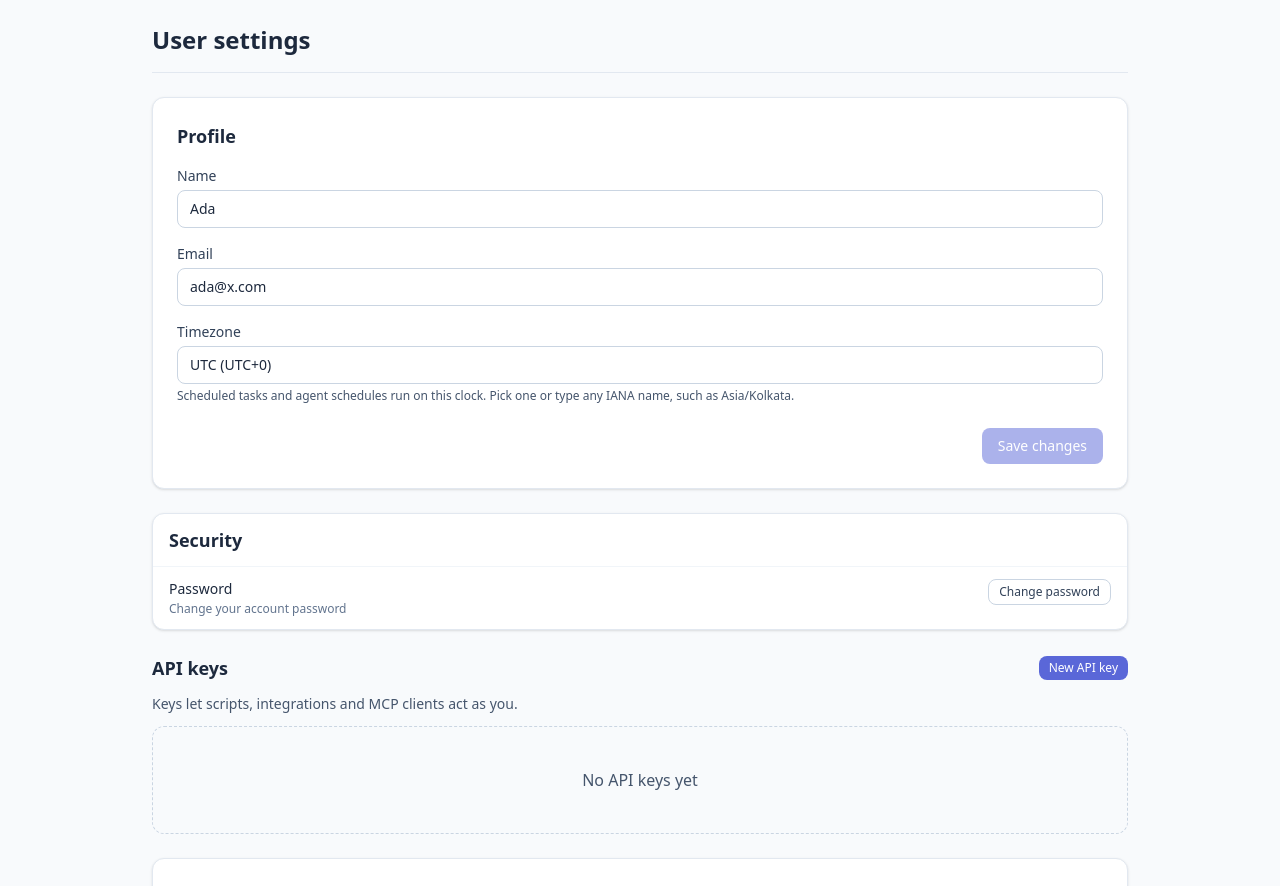
UserSettings save profile › shows an error message when the update fails
Step 1. Replace the text in the field showing "ada@x.com" with "new@x.com" → [640, 287], box left=177, top=268, right=1103, bottom=306
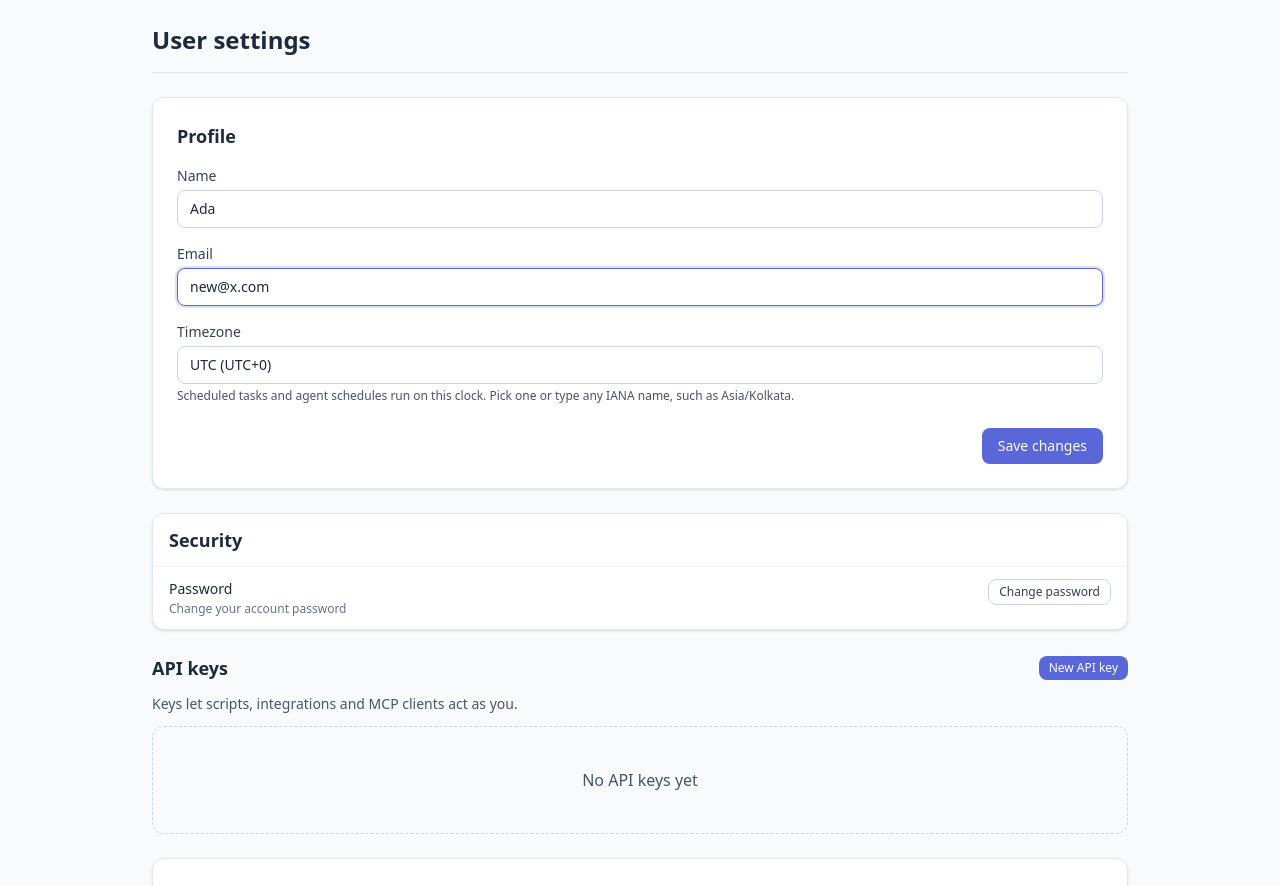
Step 2. Click the button "Save changes" → [1042, 446], box left=982, top=428, right=1103, bottom=464
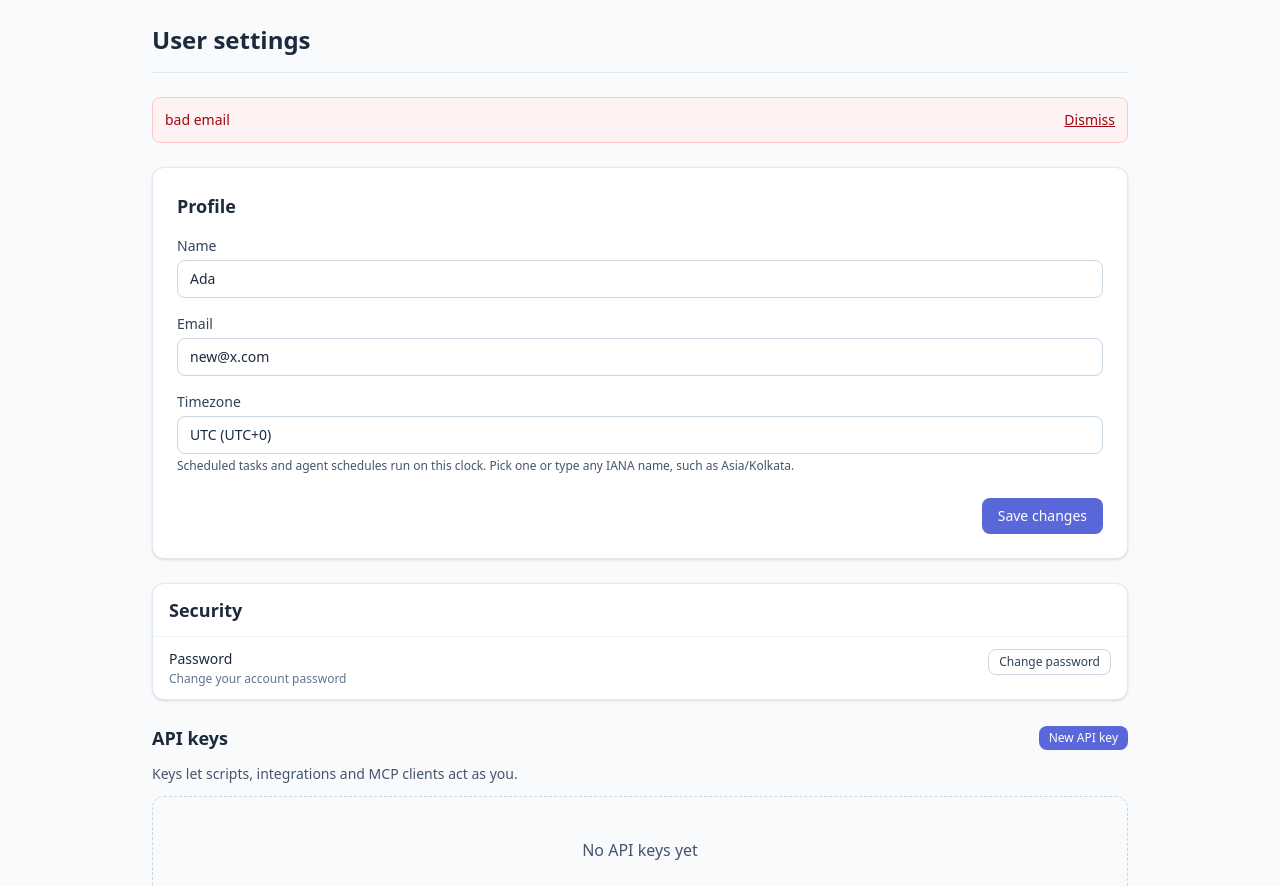
Check: the text "bad email" is shown, box left=165, top=110, right=230, bottom=130
